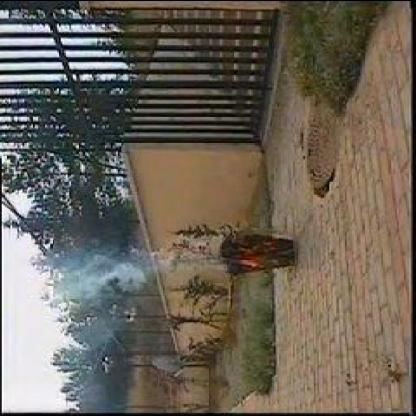-: (24, 242, 149, 308)
foggia-v2-map80-epoch100 - v1 4323: (220, 252, 258, 269)
